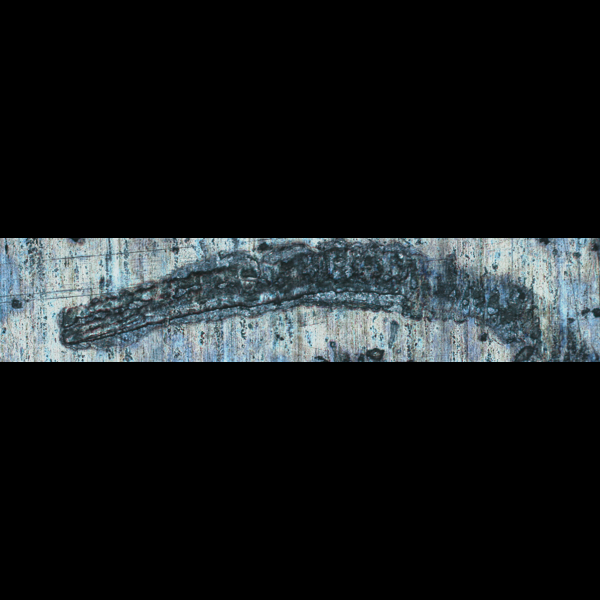d: (50, 238, 588, 357)
